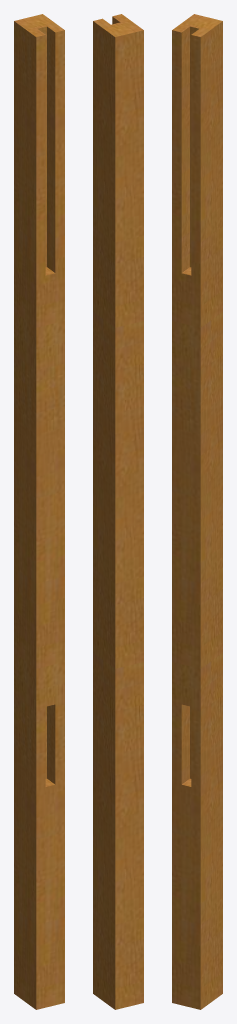
The model's file is original-30.obj.
The picture shows the model from 3 angles, left to right: view 1: azimuth 30°, elevation 25°; view 2: azimuth 210°, elevation 25°; view 3: azimuth 330°, elevation 25°; orthographic projection.
Parts seen in each view (by area): view 1: outside_leg4/outside_leg12/mesh58/mesh58-geometry#mesh58-geometr; view 2: outside_leg4/outside_leg12/mesh58/mesh58-geometry#mesh58-geometr; view 3: outside_leg4/outside_leg12/mesh58/mesh58-geometry#mesh58-geometr.
Boxes of the visible parts, x1,y1,x2,y2 form: outside_leg4/outside_leg12/mesh58/mesh58-geometry#mesh58-geometr: (14, 14, 64, 1009); outside_leg4/outside_leg12/mesh58/mesh58-geometry#mesh58-geometr: (93, 14, 143, 1009); outside_leg4/outside_leg12/mesh58/mesh58-geometry#mesh58-geometr: (172, 14, 222, 1009).
Bounding box in the file's own units: 0.0393 × 1.27 × 0.0525.
Materials: 1 (1 with a texture image).
